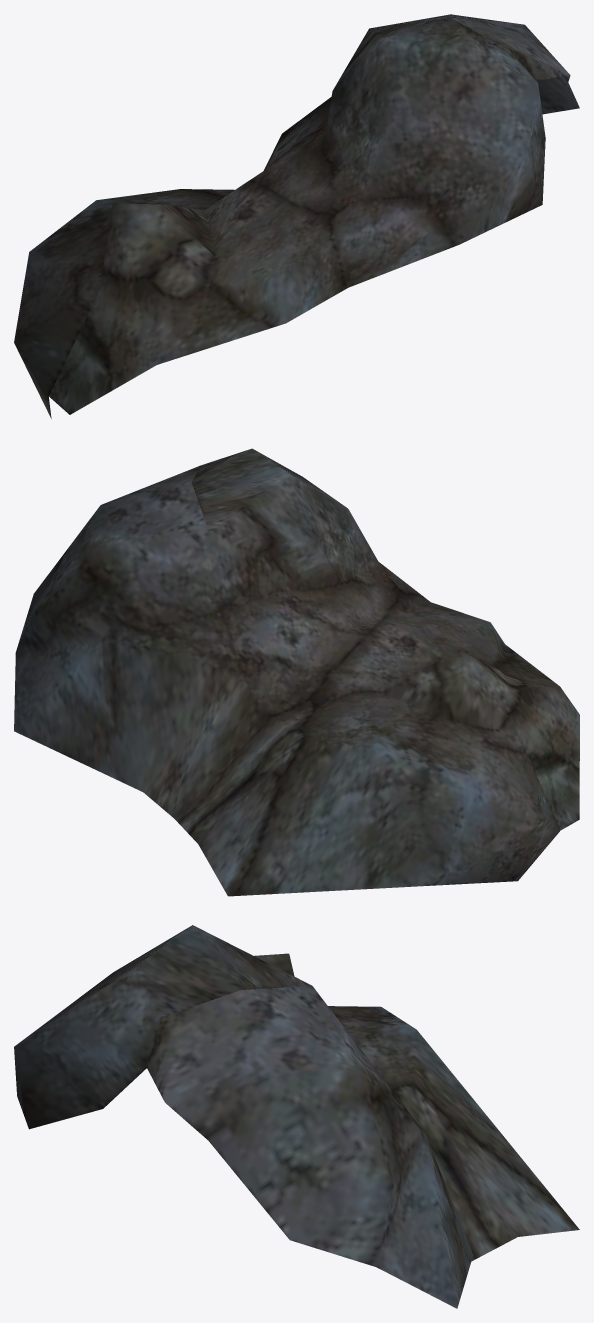
File: S_Rock_Yellow034_H40.FBX
3 renders of one model, top to bottom at view 1: azimuth 30°, elevation 25°; view 2: azimuth 150°, elevation 25°; view 3: azimuth 270°, elevation 25°, orthographic. The views are drawn at different scales.
Visible parts, largest first — view 1: S_Rock_Yellow034_H40; view 2: S_Rock_Yellow034_H40; view 3: S_Rock_Yellow034_H40.
Part boxes in pixels (bbox=[...]): S_Rock_Yellow034_H40: bbox=[14, 14, 579, 418]; S_Rock_Yellow034_H40: bbox=[14, 448, 579, 896]; S_Rock_Yellow034_H40: bbox=[14, 925, 579, 1308].
Bounding box in the file's own units: 591 × 447 × 342.
Materials: 1 (1 with a texture image).
